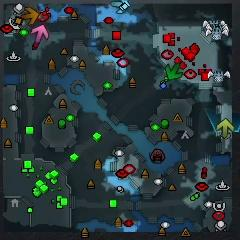x1: (30, 25, 49, 42)
x2: (217, 118, 235, 139)
x3: (110, 0, 129, 14)
x4: (166, 62, 182, 80)
x5: (21, 7, 39, 24)
